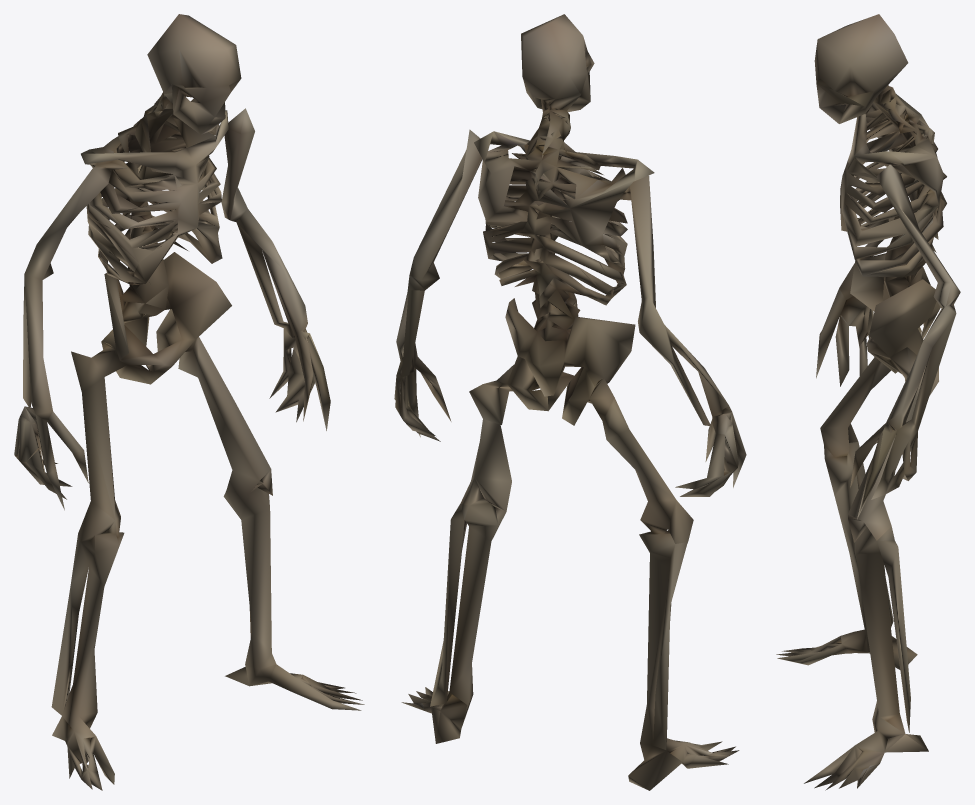
File: crew-skelC-far.glb
3 renders of one model, left to right at view 1: azimuth 30°, elevation 25°; view 2: azimuth 150°, elevation 25°; view 3: azimuth 270°, elevation 25°, orthographic. The views are drawn at different scales.
Visible parts, largest first — view 1: char1; view 2: char1; view 3: char1.
Part boxes in pixels (x1,y1,x2,y2): char1: (14,14,364,790); char1: (394,14,746,790); char1: (776,14,960,790).
Size of the model in its own units: 82.77 by 171 by 40.75.
